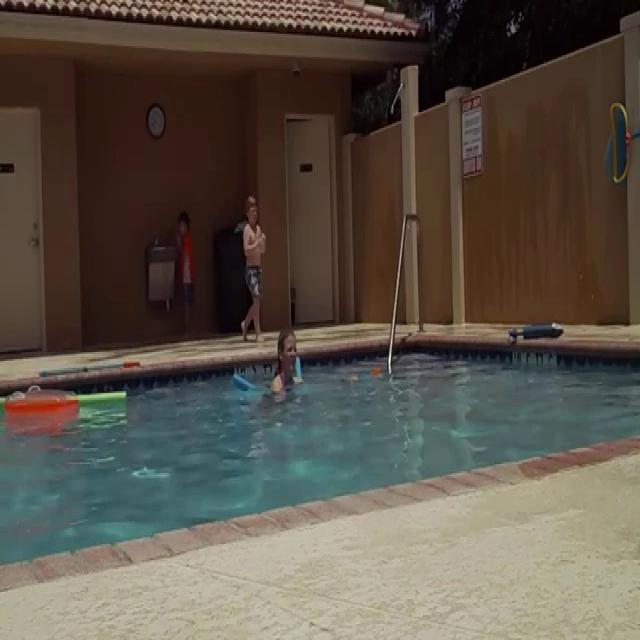adult: (264, 330, 302, 419)
child: (239, 190, 267, 348), (171, 211, 196, 344)
